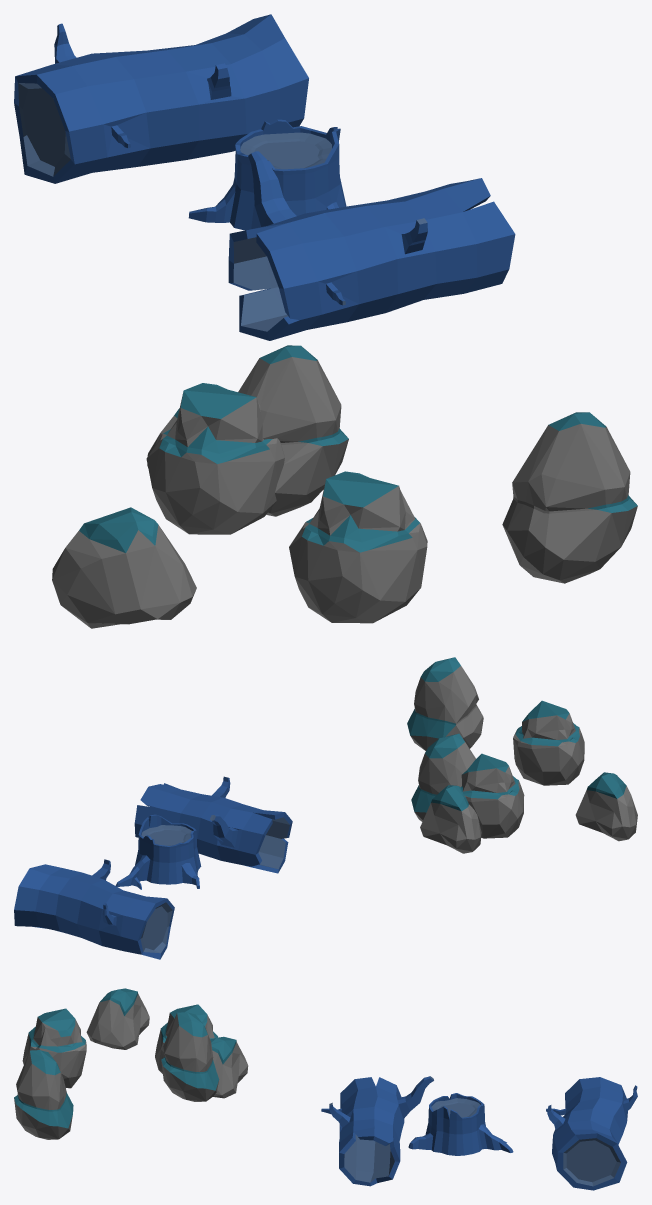
The model's file is LWH.fbx.
3 views of the same model, one above another, from view 1: azimuth 30°, elevation 25°; view 2: azimuth 150°, elevation 25°; view 3: azimuth 270°, elevation 25° (orthographic). The views are drawn at different scales.
Visible parts, largest first — view 1: Cylinder.002, Cylinder.004, Icosphere.001, Icosphere.004, Icosphere.005, Icosphere.003, Cylinder; view 2: Cylinder.002, Icosphere.001, Cylinder.004, Icosphere.004, Icosphere.005, Cylinder, Icosphere.003; view 3: Cylinder.002, Cylinder.004, Icosphere.001, Icosphere.004, Cylinder, Icosphere.005, Icosphere.003.
Boxes of the visible parts, box(x1,y1,x2,y2) form: Cylinder.002: box(14, 14, 308, 183); Cylinder.004: box(228, 151, 515, 340); Icosphere.001: box(146, 345, 348, 534); Icosphere.004: box(502, 412, 637, 583); Icosphere.005: box(289, 471, 427, 623); Icosphere.003: box(52, 507, 196, 628); Cylinder: box(188, 119, 346, 230); Cylinder.002: box(14, 859, 174, 959); Icosphere.001: box(411, 733, 524, 853); Cylinder.004: box(134, 776, 292, 873); Icosphere.004: box(407, 657, 483, 750); Icosphere.005: box(513, 700, 584, 785); Cylinder: box(115, 814, 201, 889); Icosphere.003: box(575, 772, 637, 841); Cylinder.002: box(546, 1077, 637, 1190); Cylinder.004: box(321, 1076, 433, 1186); Icosphere.001: box(155, 1004, 248, 1101); Icosphere.004: box(14, 1050, 73, 1139); Cylinder: box(408, 1093, 513, 1155); Icosphere.005: box(22, 1008, 86, 1088); Icosphere.003: box(86, 988, 149, 1049).
Bounding box in the file's own units: 1409 × 351 × 2196.
